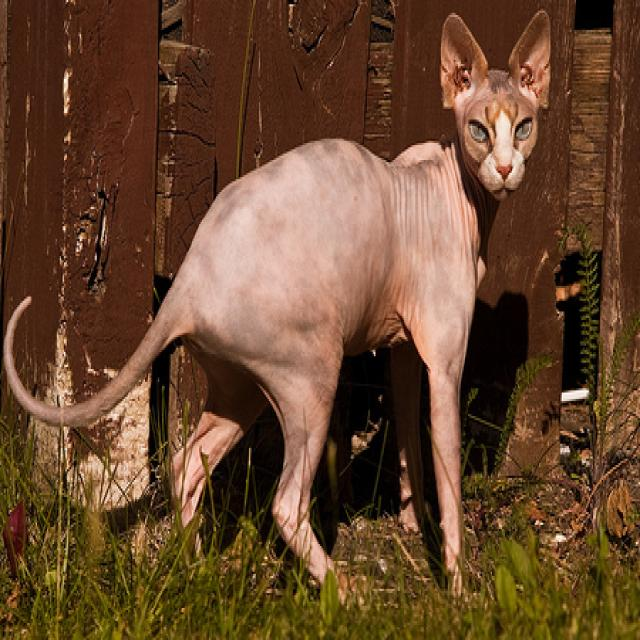Sphynx: (1, 7, 557, 603)
